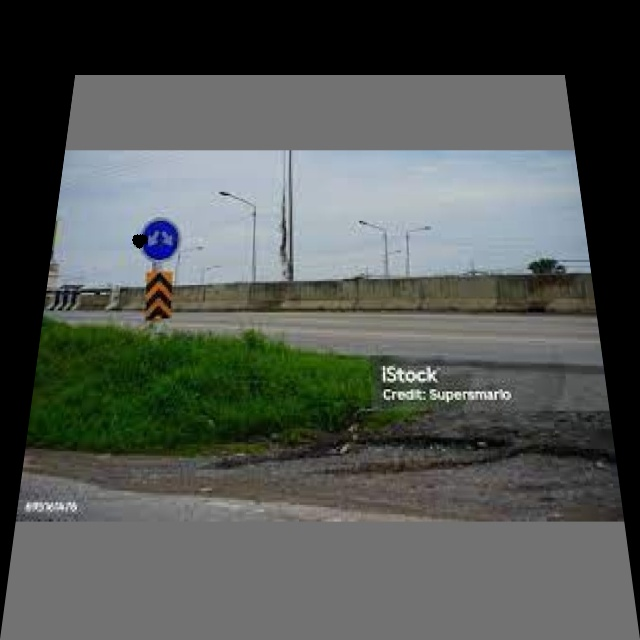Pass_Either_Side: (140, 216, 183, 260)
